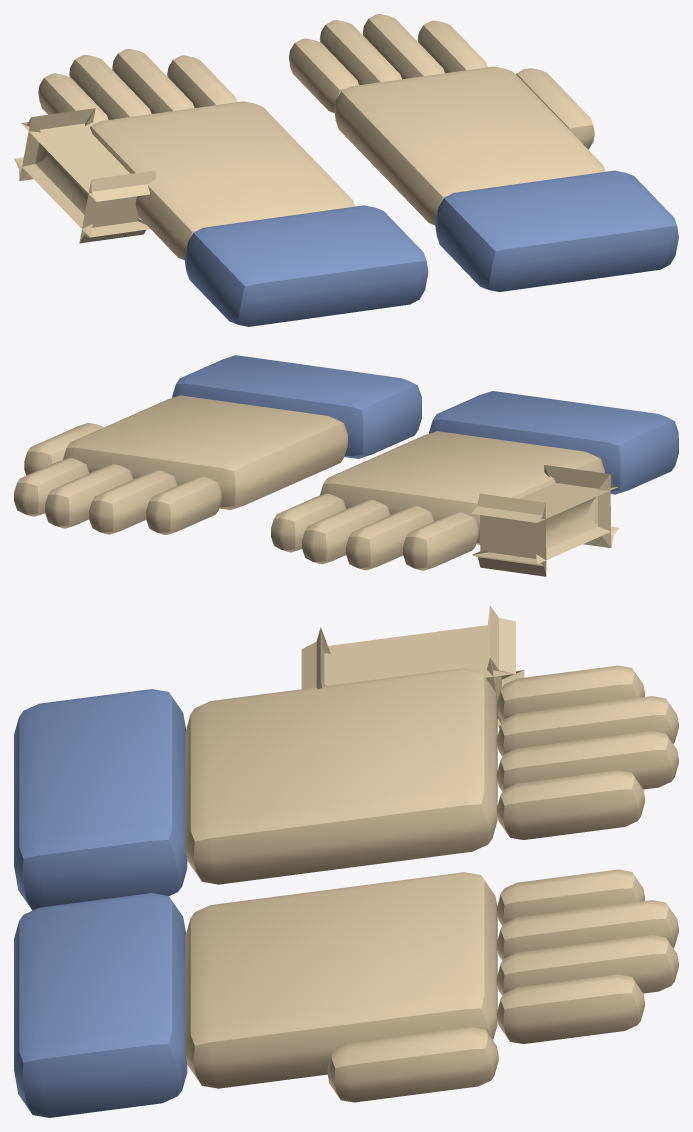
File: SER-EPI-003_anim.glb
The picture shows the model from 3 angles, top to bottom: view 1: azimuth 30°, elevation 25°; view 2: azimuth 150°, elevation 25°; view 3: azimuth 270°, elevation 25°; orthographic projection. The views are drawn at different scales.
Visible parts, largest first — view 1: SER-EPI-003_anim0; view 2: SER-EPI-003_anim0; view 3: SER-EPI-003_anim0.
Part boxes in pixels (bbox=[...]): SER-EPI-003_anim0: bbox=[14, 14, 678, 326]; SER-EPI-003_anim0: bbox=[14, 355, 678, 576]; SER-EPI-003_anim0: bbox=[14, 605, 678, 1117].
Size of the model in its own units: 0.2893 by 0.0776 by 0.2332.
